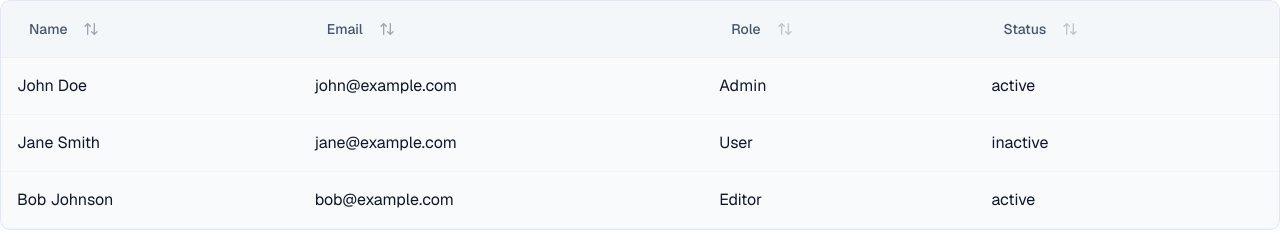
Test case: DataTable Component › Column Sorting › handles column sorting correctly (ascending/descending)
The width and height of the screenshot is (1280, 247).
Expected: the row "John Doe john@example.com Admin active" is shown, [1,58,1279,114]
Click to sort ascending
Click the button "Name" at (64, 29), box [17,19,112,39]
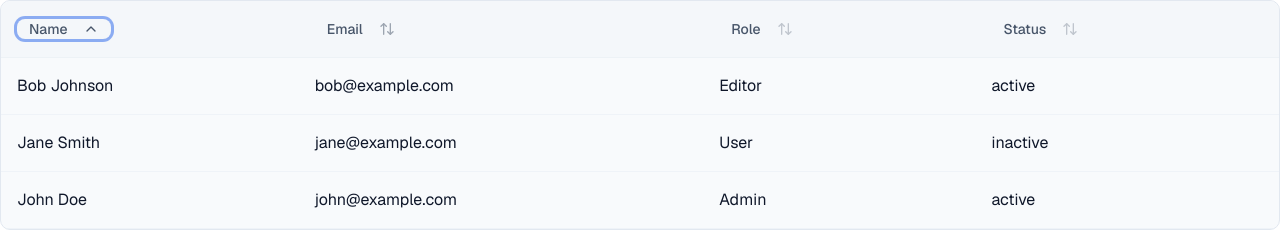
Now the row "Bob Johnson bob@example.com Editor active" is shown, box [1,58,1279,114]
Click again to sort descending
Click the button "Name" at (64, 29), box [17,19,112,39]
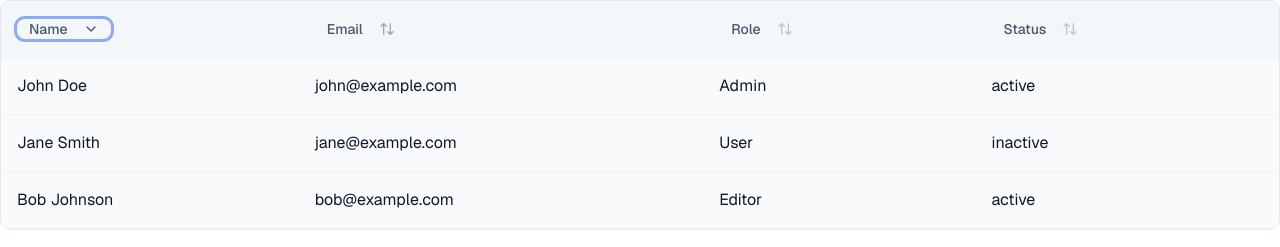
Now the row "John Doe john@example.com Admin active" is shown, box [1,58,1279,114]
